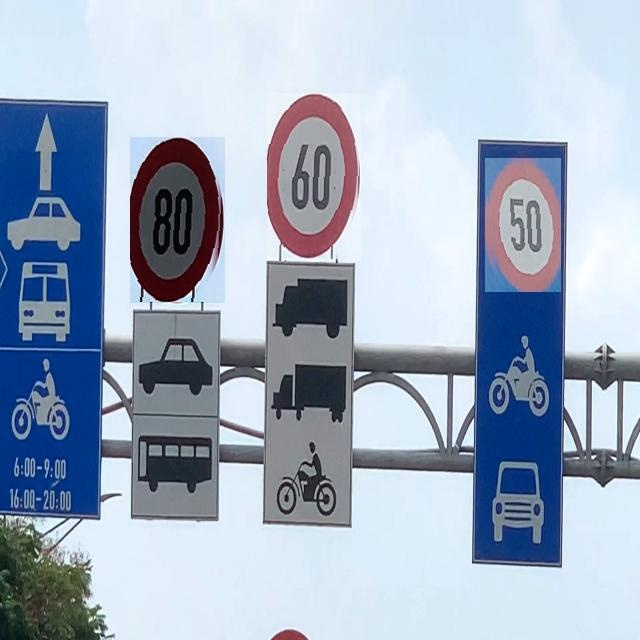bien_cam: (267, 93, 361, 261), (130, 138, 225, 304), (485, 158, 561, 292)
